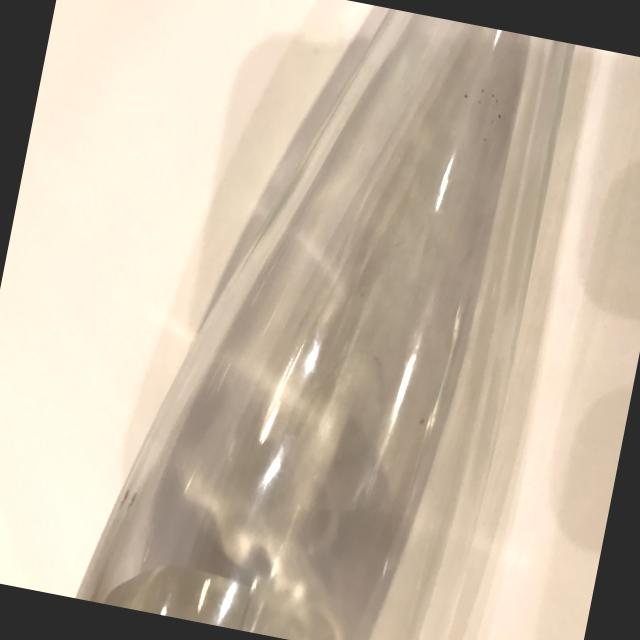Glass: (49, 0, 566, 640)
